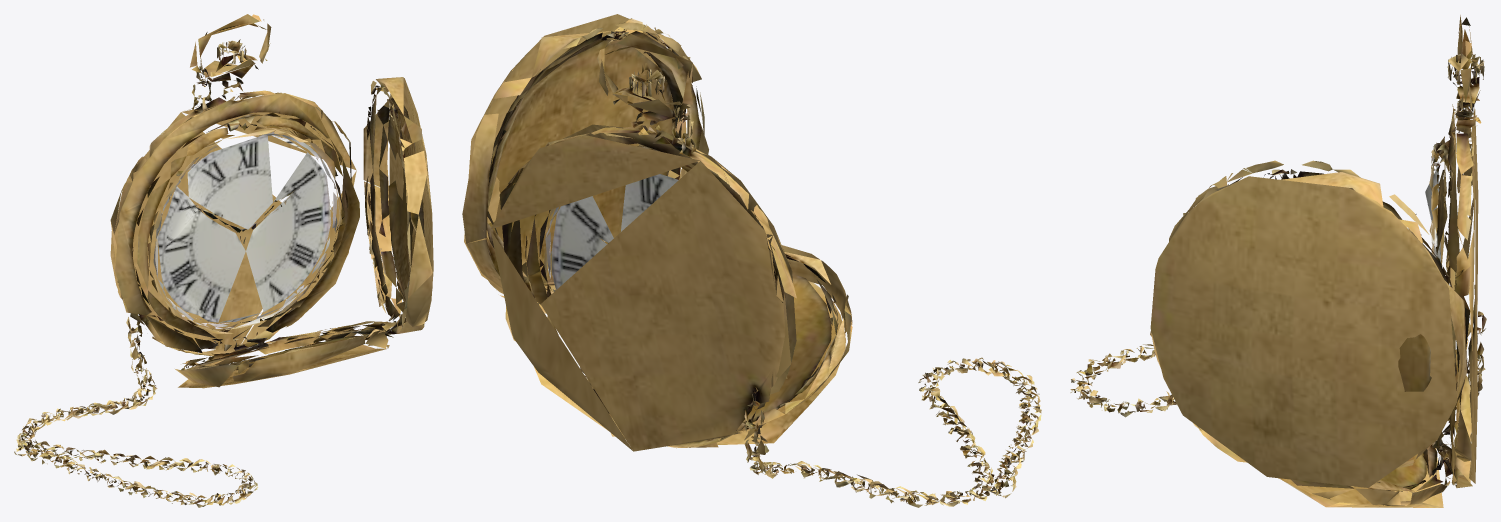
Rendered from pocketwatch.glb.
3 renders of one model, left to right at view 1: azimuth 30°, elevation 25°; view 2: azimuth 150°, elevation 25°; view 3: azimuth 270°, elevation 25°, orthographic. The views are drawn at different scales.
Visible parts, largest first — view 1: pocketwatch; view 2: pocketwatch; view 3: pocketwatch.
Part boxes in pixels (x1,y1,x2,y2): pocketwatch: (14,14,433,507); pocketwatch: (462,14,1041,507); pocketwatch: (1070,15,1486,507).
Size of the model in its own units: 1.25 by 0.9996 by 0.8074.
Materials: 1 (1 with a texture image).
